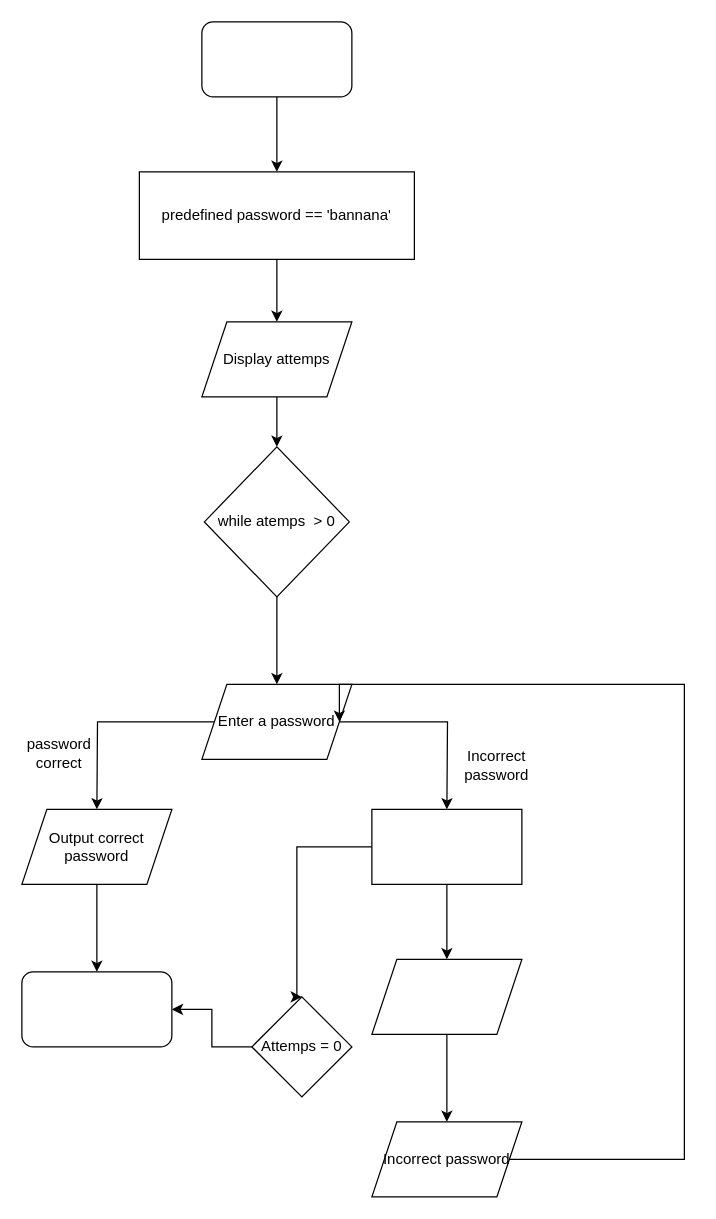
Some shapes in this 716 by 1219 pixel diagram are drawn without their labels. Each missing label, with the centre of its shape:
"Attemps = attemps - 1" goes at point (446, 846).
"Attemps left" goes at point (446, 996).
"end" goes at point (96, 1009).
"Start" goes at point (276, 59).
